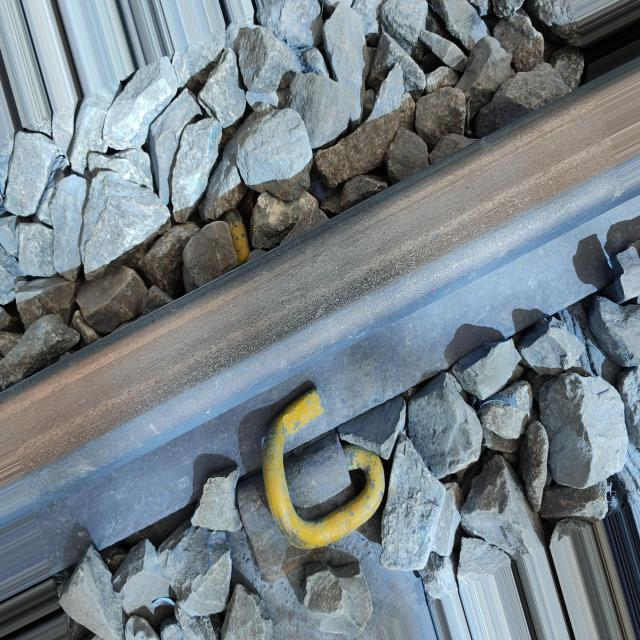Good Fasteners: (236, 388, 385, 581)
